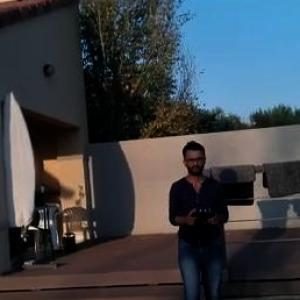follow: (162, 132, 234, 299)
